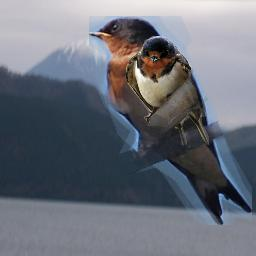Swallow: (89, 16, 252, 225), (126, 36, 209, 145)
